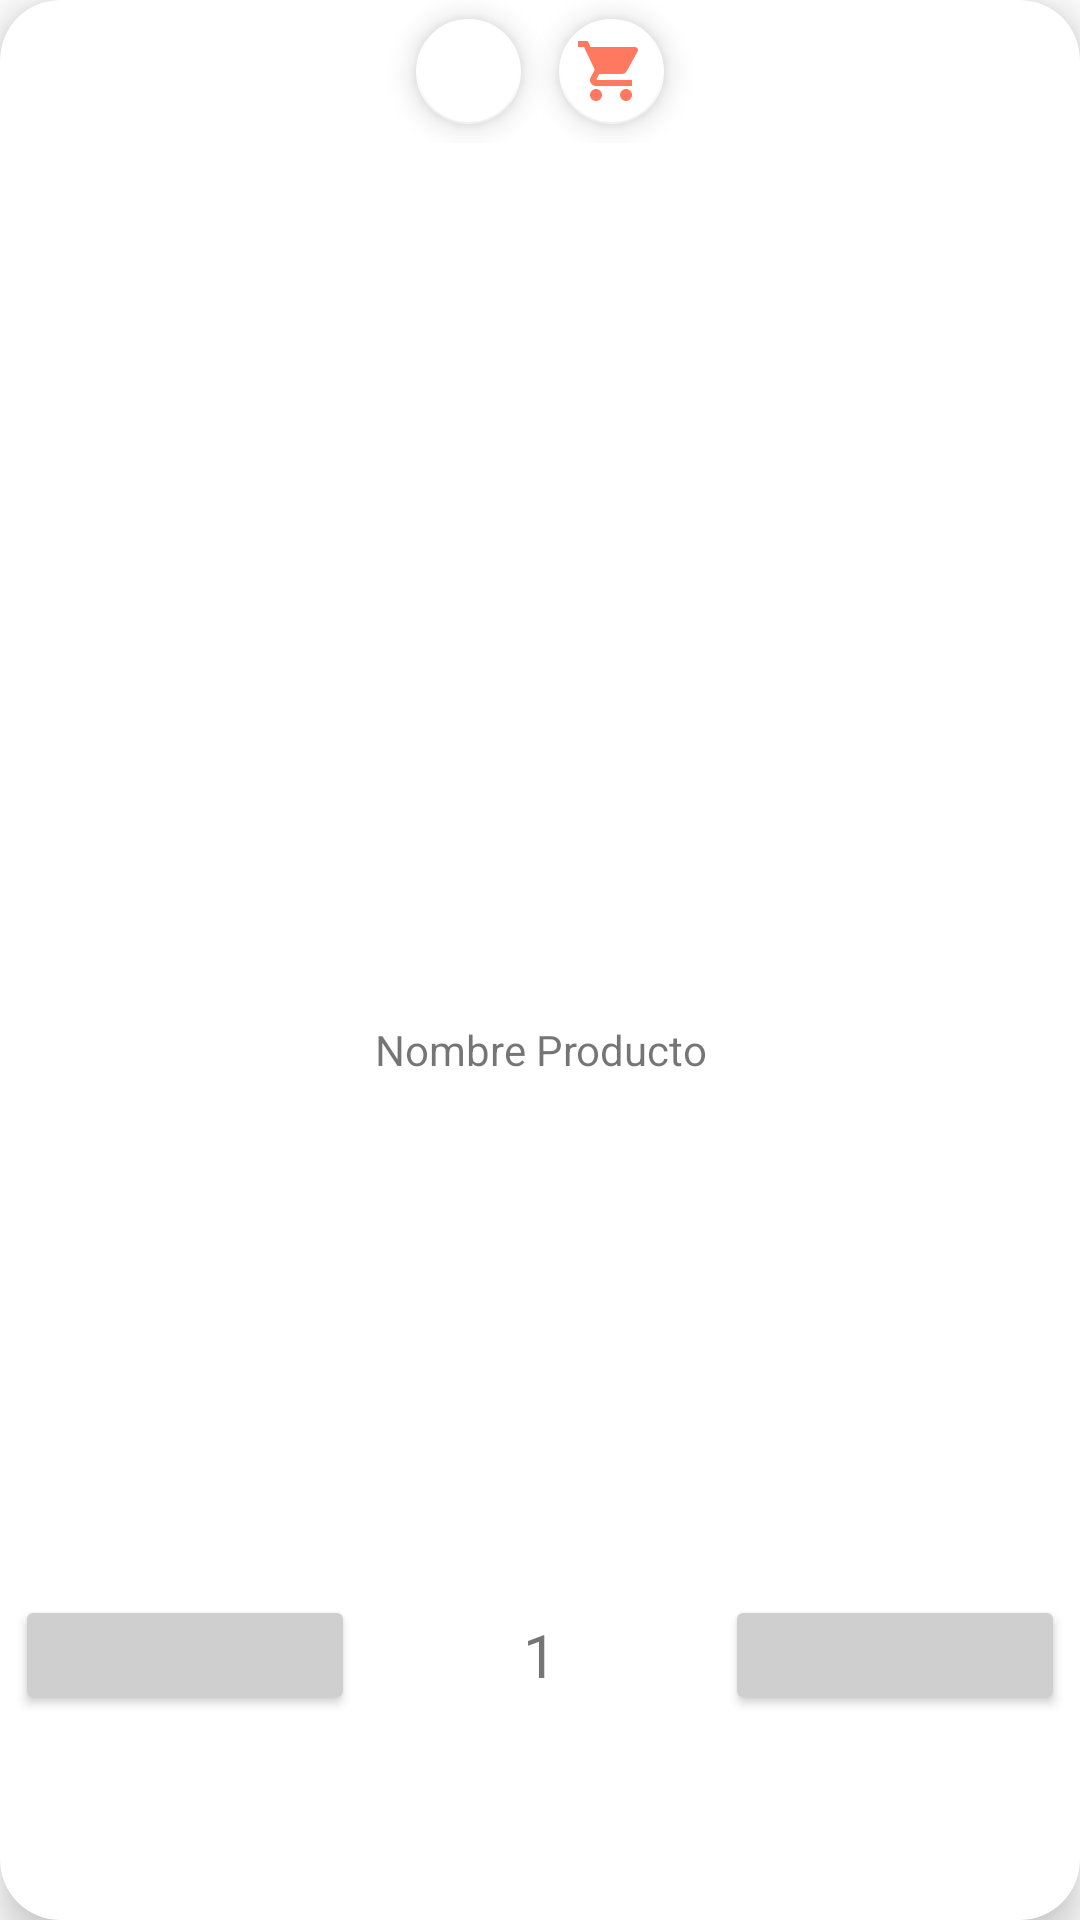

Icon click points for this 1080x1920 phone screenshot, format (x=x, y=y):
add product cart: (x=621, y=83)
